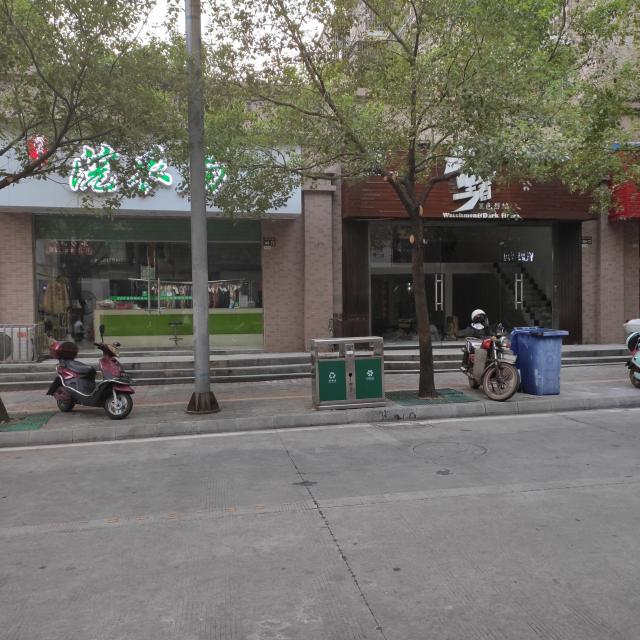ash bin: (305, 332, 390, 412), (509, 326, 568, 394)
motorbike: (46, 324, 135, 418), (459, 306, 520, 401)
pole: (174, 1, 224, 412)
